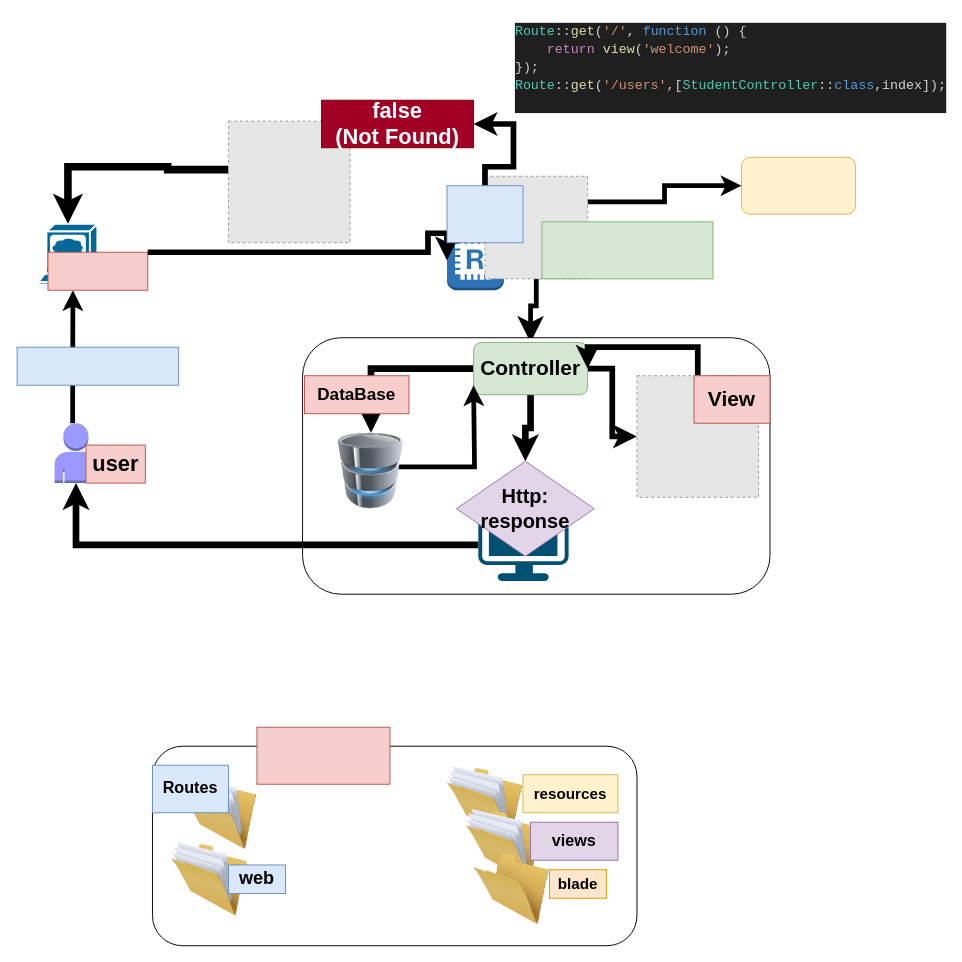
This 962x962 diagram has some shape labels left out. Grey dashed boxes stand in for pictures. The shapes that lost their labels are listed below. From the top down, each one's centre as x and y in pixels, then its label:
At (798,185): "Call back function".
At (484,214): "Route".
At (97,270): "Browser".
At (627,250): "TRUE (FOUND)".
At (97,365): "Request: www.google.com".
At (323,755): "Project".
